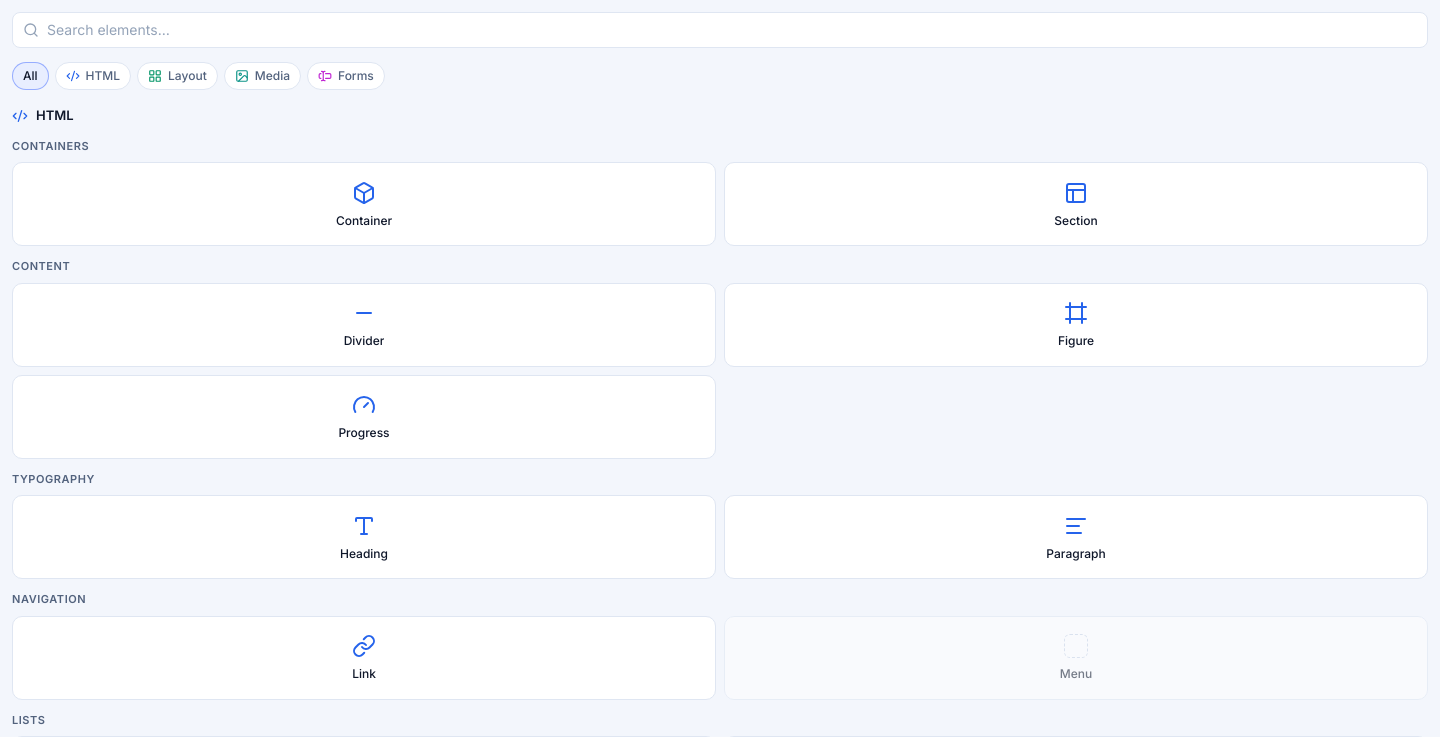
Test: ResourceCatalogPanel › shows an empty state that clears the search and filter
Type "zzz-nothing" into the search field labelled "Search elements" at (732, 30), box x1=47 y1=20 x2=1417 y2=40
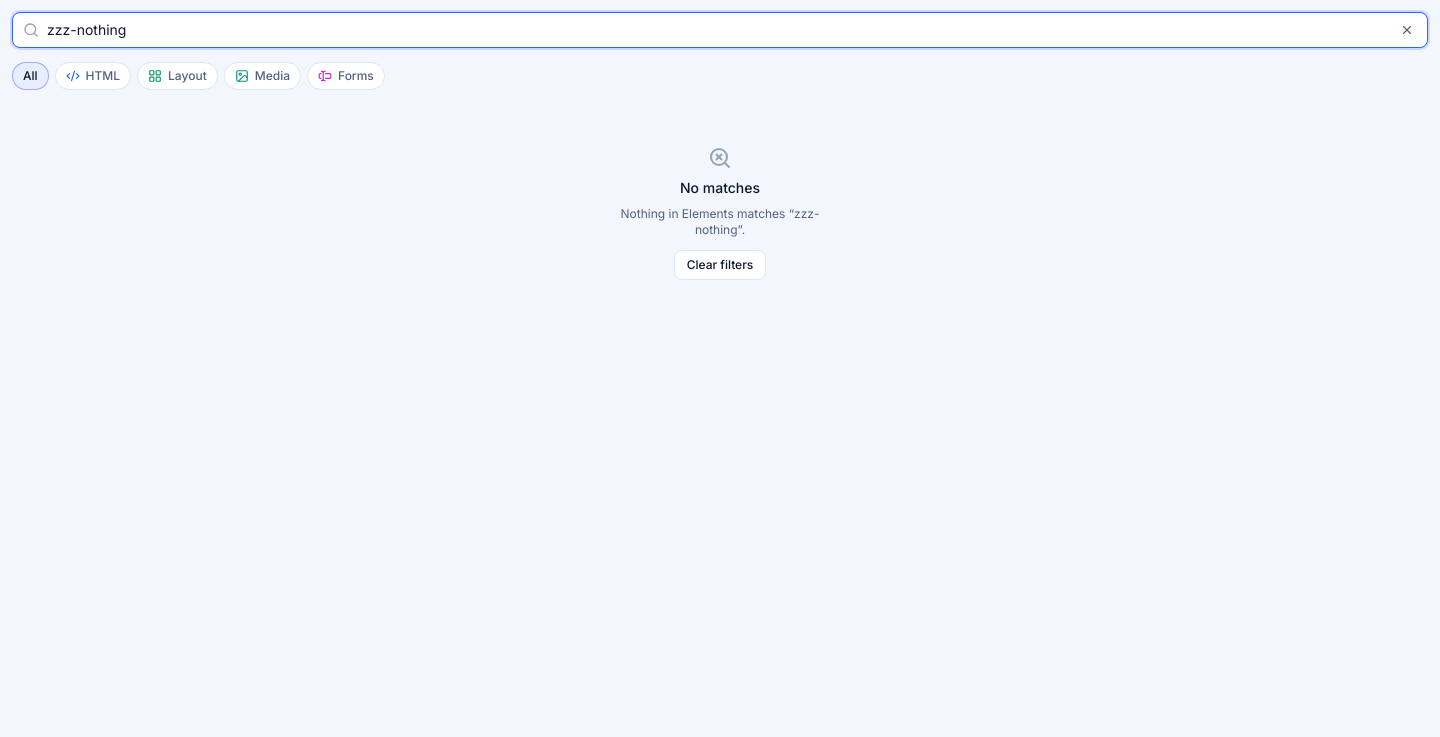
Check: the text "No matches" is shown, box x1=680 y1=178 x2=760 y2=198
Click the button "Clear filters" at (720, 265), box x1=674 y1=250 x2=766 y2=280
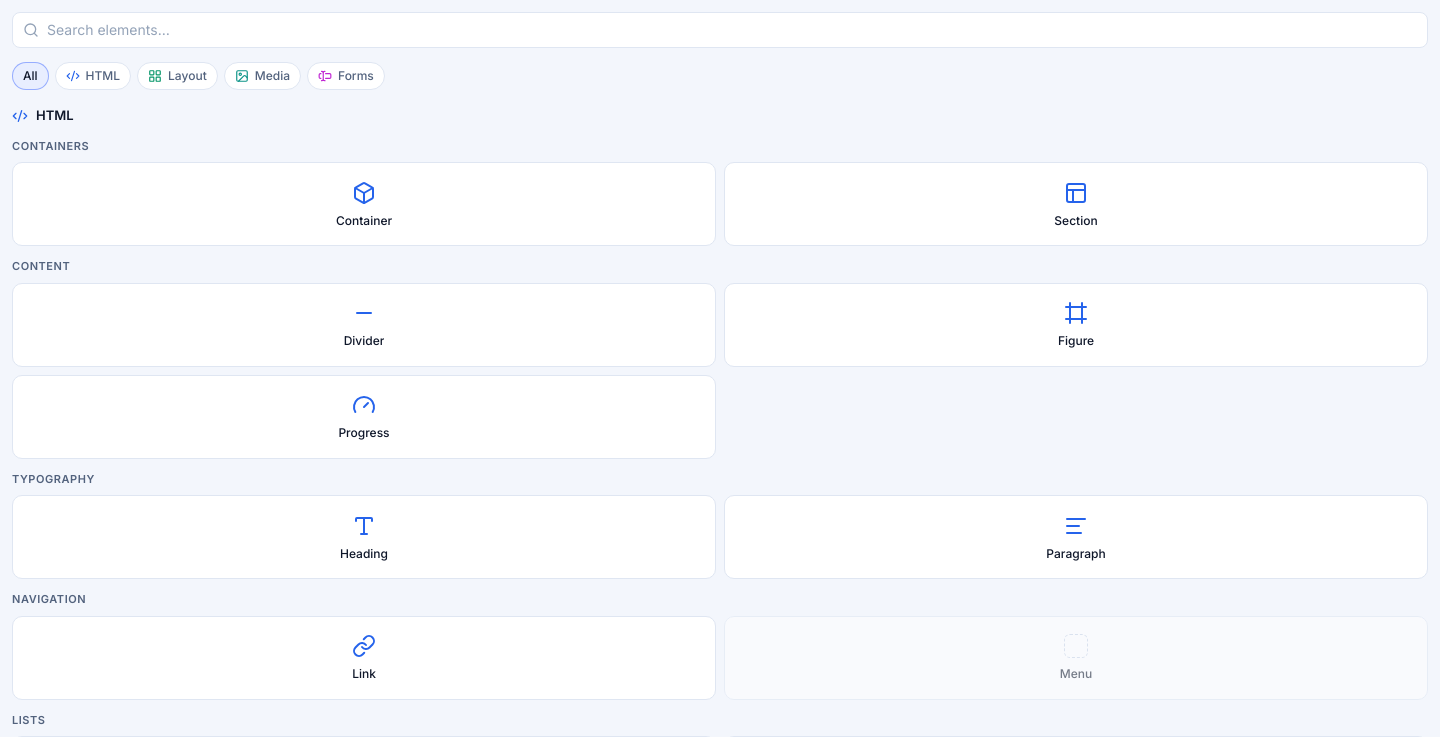
Check: the search field labelled "Search elements" is empty, box x1=47 y1=20 x2=1417 y2=40
Check: the button "Heading" is shown, box x1=12 y1=495 x2=716 y2=579
